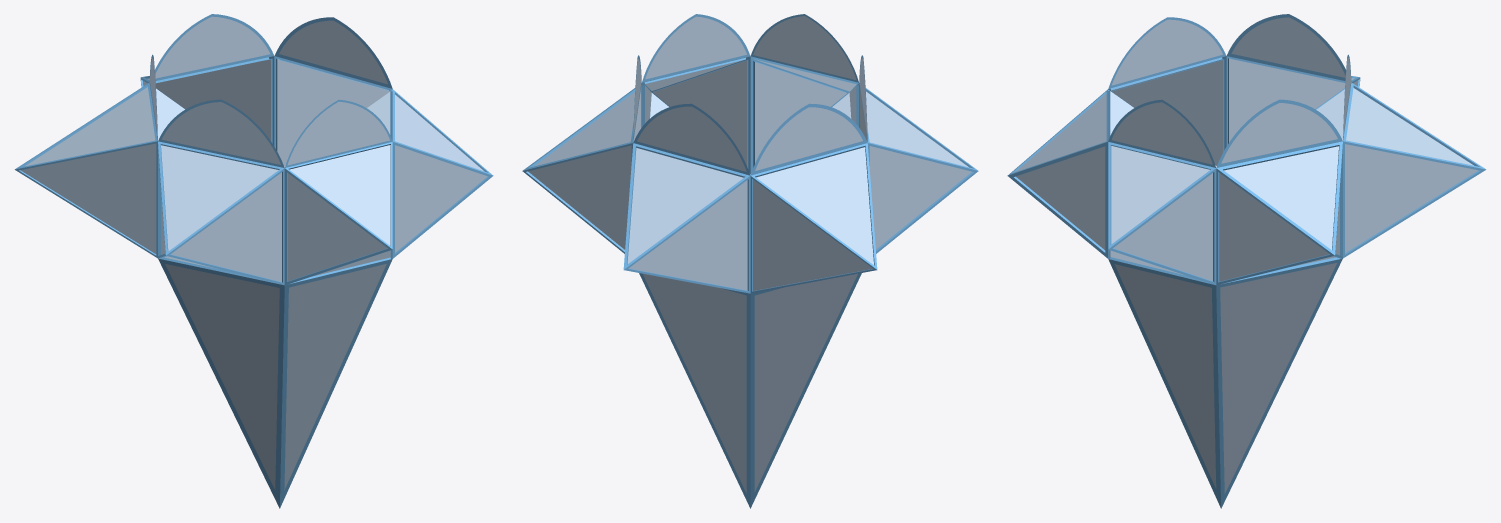
The model's file is lantern_03.glb.
The picture shows the model from 3 angles, left to right: view 1: azimuth 30°, elevation 25°; view 2: azimuth 150°, elevation 25°; view 3: azimuth 270°, elevation 25°; orthographic projection.
Visible parts, largest first — view 1: imagetostl_mesh143, imagetostl_mesh142, imagetostl_mesh19, imagetostl_mesh91, imagetostl_mesh99, imagetostl_mesh80, imagetostl_mesh76, imagetostl_mesh64, imagetostl_mesh48, imagetostl_mesh32, imagetostl_mesh9, imagetostl_mesh27 (+18 smaller); view 2: imagetostl_mesh144, imagetostl_mesh146, imagetostl_mesh11, imagetostl_mesh36, imagetostl_mesh23, imagetostl_mesh28, imagetostl_mesh48, imagetostl_mesh95, imagetostl_mesh64, imagetostl_mesh27, imagetostl_mesh83, imagetostl_mesh10 (+21 smaller); view 3: imagetostl_mesh145, imagetostl_mesh141, imagetostl_mesh32, imagetostl_mesh52, imagetostl_mesh44, imagetostl_mesh68, imagetostl_mesh60, imagetostl_mesh83, imagetostl_mesh95, imagetostl_mesh19, imagetostl_mesh7, imagetostl_mesh9 (+18 smaller).
Part boxes in pixels (x1=…): imagetostl_mesh143: x1=165, y1=264, x2=279, y2=489; imagetostl_mesh142: x1=284, y1=264, x2=386, y2=489; imagetostl_mesh19: x1=20, y1=143, x2=156, y2=253; imagetostl_mesh91: x1=161, y1=145, x2=278, y2=251; imagetostl_mesh99: x1=171, y1=172, x2=281, y2=281; imagetostl_mesh80: x1=288, y1=173, x2=387, y2=280; imagetostl_mesh76: x1=289, y1=145, x2=390, y2=245; imagetostl_mesh64: x1=395, y1=145, x2=487, y2=252; imagetostl_mesh48: x1=277, y1=59, x2=389, y2=166; imagetostl_mesh32: x1=155, y1=59, x2=270, y2=140; imagetostl_mesh9: x1=161, y1=102, x2=280, y2=164; imagetostl_mesh27: x1=155, y1=16, x2=270, y2=78; imagetostl_mesh144: x1=643, y1=273, x2=746, y2=493; imagetostl_mesh146: x1=754, y1=273, x2=857, y2=491; imagetostl_mesh11: x1=753, y1=179, x2=872, y2=290; imagetostl_mesh36: x1=629, y1=180, x2=747, y2=290; imagetostl_mesh23: x1=756, y1=147, x2=873, y2=264; imagetostl_mesh28: x1=627, y1=148, x2=743, y2=263; imagetostl_mesh48: x1=528, y1=145, x2=631, y2=249; imagetostl_mesh95: x1=869, y1=146, x2=971, y2=249; imagetostl_mesh64: x1=653, y1=60, x2=747, y2=166; imagetostl_mesh27: x1=637, y1=106, x2=746, y2=171; imagetostl_mesh83: x1=755, y1=62, x2=846, y2=163; imagetostl_mesh10: x1=753, y1=16, x2=856, y2=80; imagetostl_mesh145: x1=1220, y1=263, x2=1336, y2=493; imagetostl_mesh141: x1=1114, y1=264, x2=1216, y2=488; imagetostl_mesh32: x1=1345, y1=144, x2=1478, y2=252; imagetostl_mesh52: x1=1219, y1=173, x2=1329, y2=281; imagetostl_mesh44: x1=1224, y1=146, x2=1338, y2=249; imagetostl_mesh68: x1=1113, y1=173, x2=1212, y2=280; imagetostl_mesh60: x1=1111, y1=146, x2=1209, y2=244; imagetostl_mesh83: x1=1016, y1=146, x2=1105, y2=249; imagetostl_mesh95: x1=1112, y1=60, x2=1222, y2=165; imagetostl_mesh19: x1=1229, y1=58, x2=1345, y2=142; imagetostl_mesh7: x1=1221, y1=103, x2=1337, y2=163; imagetostl_mesh9: x1=1111, y1=19, x2=1222, y2=85.
Size of the model in its own units: 180 by 211 by 204.
